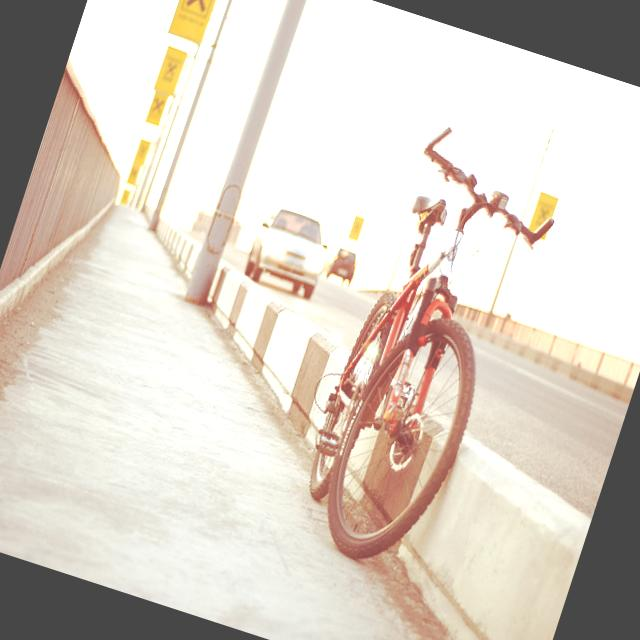Vehicle: (243, 202, 337, 302), (324, 246, 360, 289)
